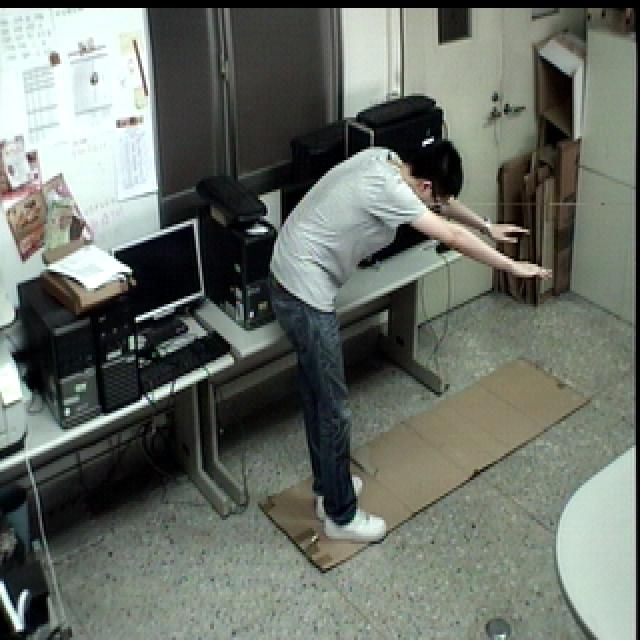bend: (263, 132, 566, 551)
